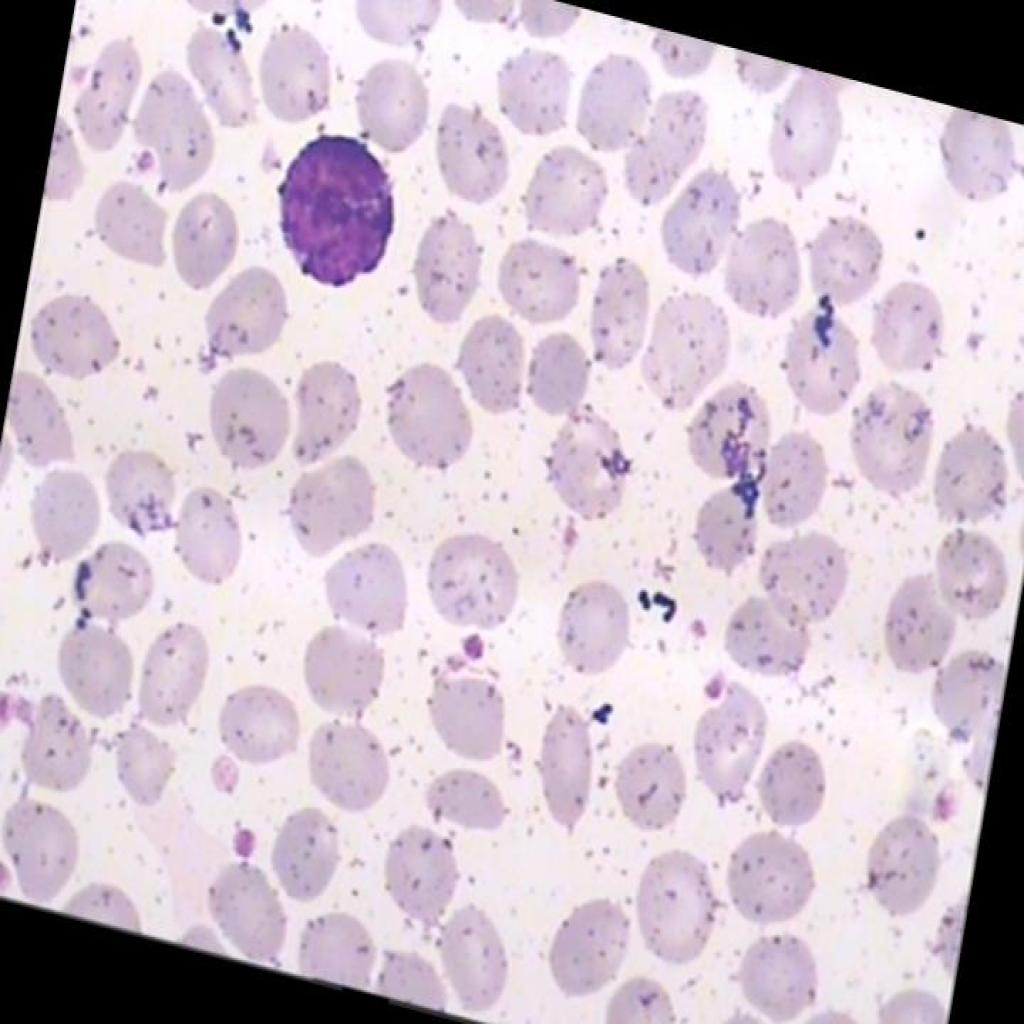Basofil: (252, 103, 422, 308)
Platelet: (541, 501, 600, 576), (949, 313, 997, 384), (116, 130, 170, 186), (448, 622, 496, 679), (0, 678, 40, 742), (690, 660, 734, 718), (677, 599, 724, 653), (924, 777, 963, 841), (204, 734, 244, 786), (218, 820, 258, 868), (0, 842, 16, 890)
